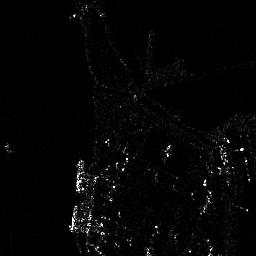ship: (75, 159, 85, 193), (68, 204, 79, 233)
